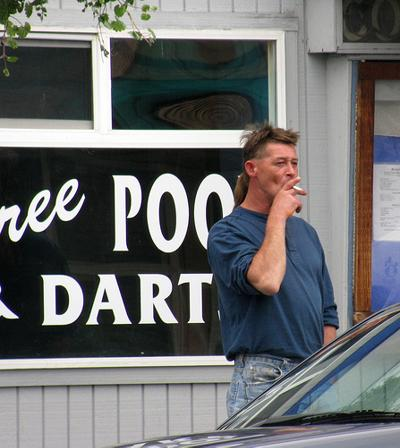person: (209, 124, 341, 422)
